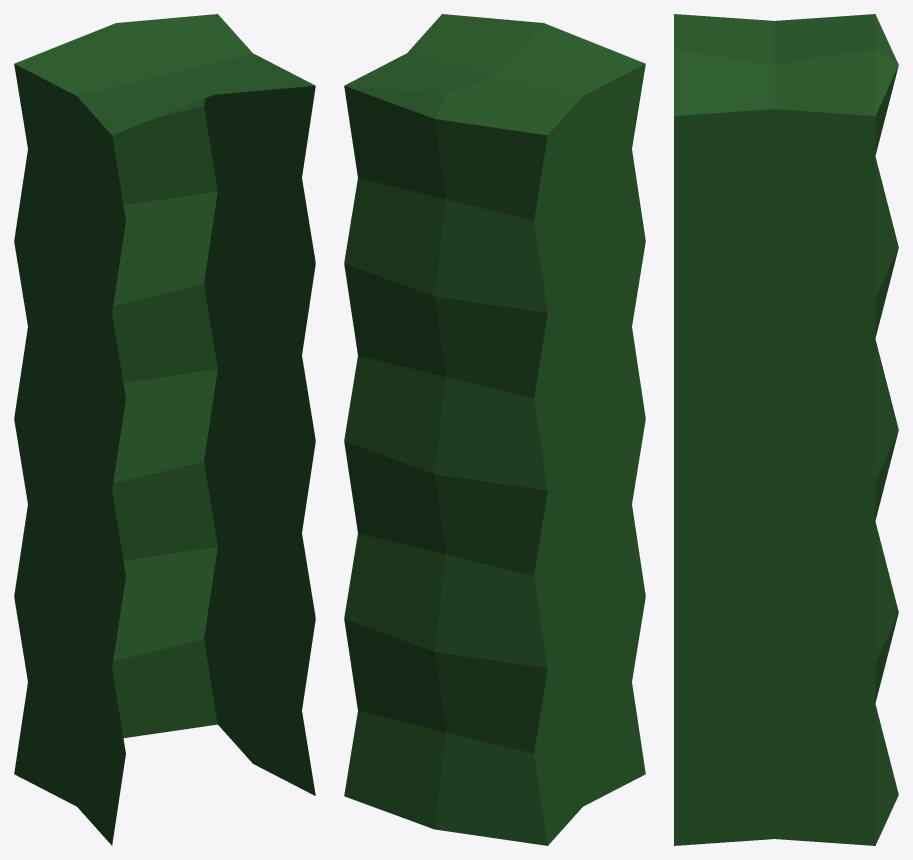
Rendered from bush_side_right.fbx.
The picture shows the model from 3 angles, left to right: view 1: azimuth 30°, elevation 25°; view 2: azimuth 150°, elevation 25°; view 3: azimuth 270°, elevation 25°; orthographic projection. The views are drawn at different scales.
Visible parts, largest first — view 1: Bush.Side.Right; view 2: Bush.Side.Right; view 3: Bush.Side.Right.
Boxes of the visible parts, box(x1,y1,x2,y2) form: Bush.Side.Right: box(14, 14, 315, 845); Bush.Side.Right: box(344, 14, 645, 845); Bush.Side.Right: box(674, 14, 898, 845).
Bounding box in the file's own units: 120 × 409 × 112.
